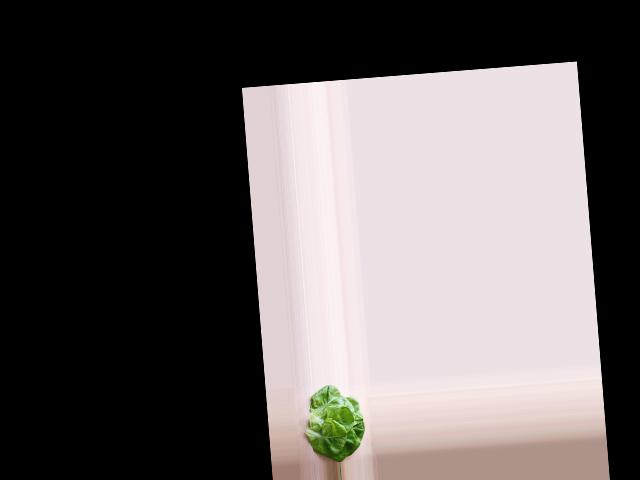lettuce: (304, 384, 367, 462)
